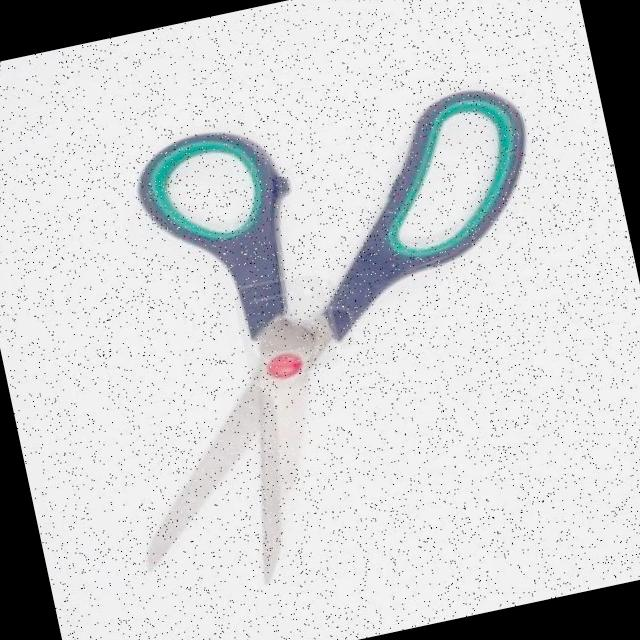scissors: (49, 56, 618, 614)
